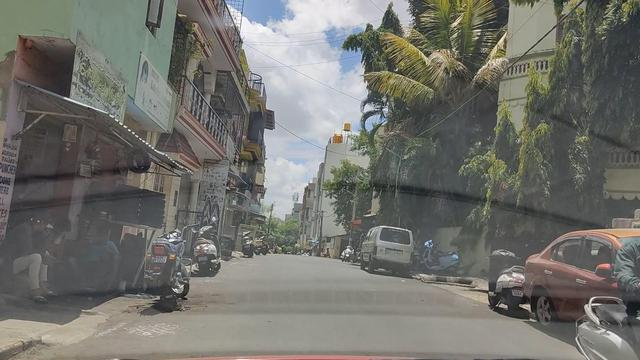LMV: (149, 222, 192, 308), (356, 227, 414, 273)
